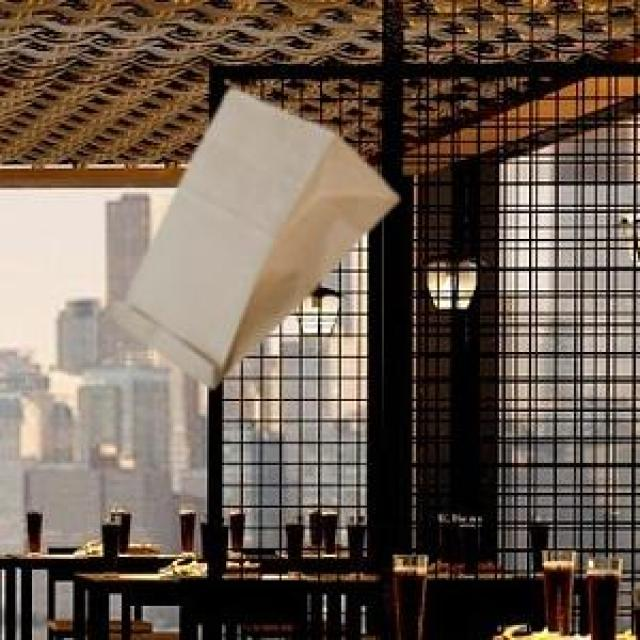PaperCardboard: (113, 89, 401, 387)
